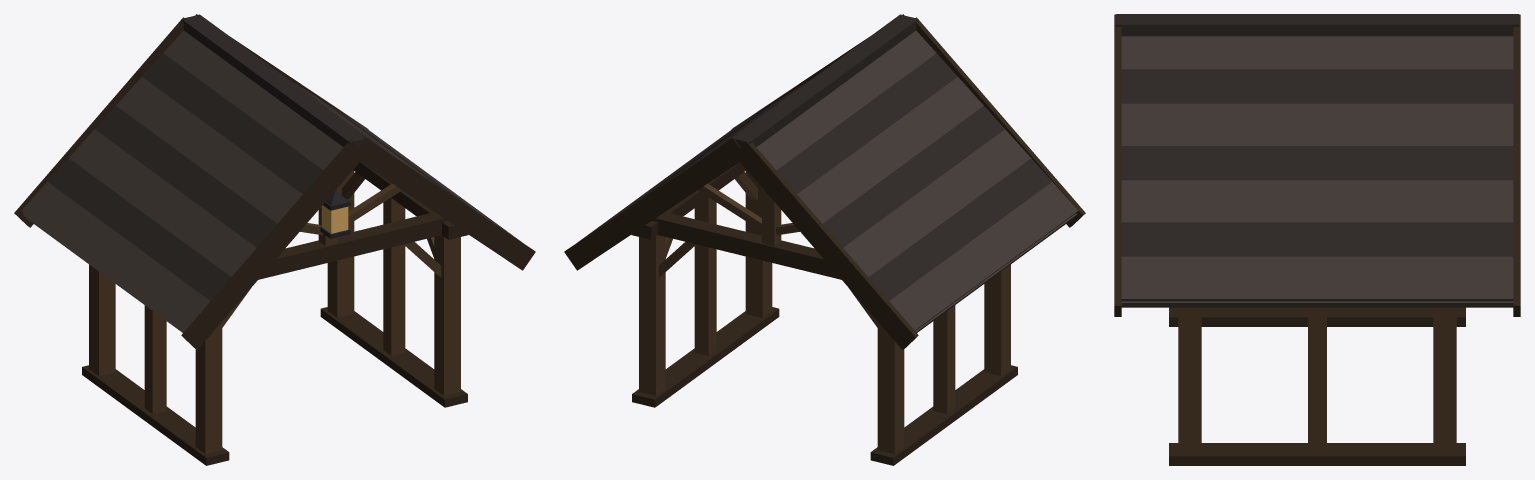
File: oathfield-lychgate.glb
3 renders of one model, left to right at view 1: azimuth 30°, elevation 25°; view 2: azimuth 150°, elevation 25°; view 3: azimuth 270°, elevation 25°, orthographic. The views are drawn at different scales.
Visible parts, largest first — view 1: oathfield-lychgate; view 2: oathfield-lychgate; view 3: oathfield-lychgate.
Part boxes in pixels (x1,y1,x2,y2): oathfield-lychgate: (14,14,535,465); oathfield-lychgate: (564,14,1085,465); oathfield-lychgate: (1114,14,1520,465).
Size of the model in its own units: 4.57 by 3.86 by 3.83.
